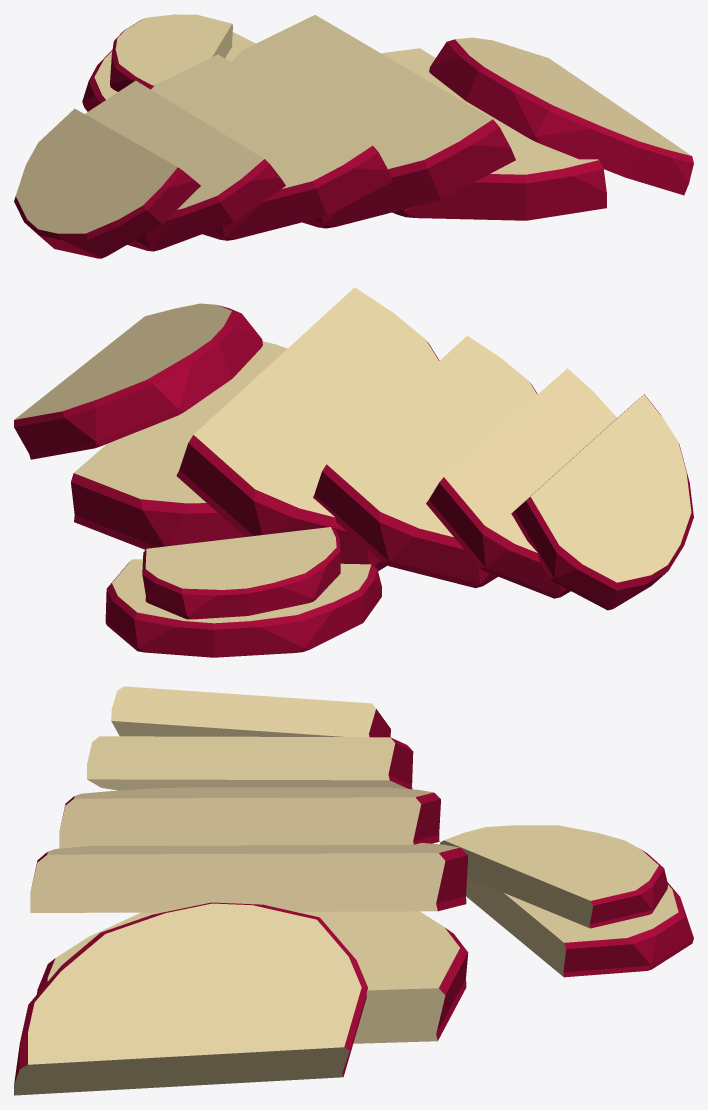
Rendered from ManzanaRojaCortada.fbx.
The picture shows the model from 3 angles, top to bottom: view 1: azimuth 30°, elevation 25°; view 2: azimuth 150°, elevation 25°; view 3: azimuth 270°, elevation 25°; orthographic projection. The views are drawn at different scales.
Parts seen in each view (by area): view 1: Manzana(R)Cortada; view 2: Manzana(R)Cortada; view 3: Manzana(R)Cortada.
Boxes of the visible parts, x1,y1,x2,y2 form: Manzana(R)Cortada: [14, 14, 693, 258]; Manzana(R)Cortada: [14, 287, 693, 657]; Manzana(R)Cortada: [14, 686, 693, 1095].
Bounding box in the file's own units: 11.11 × 2.16 × 9.59.
